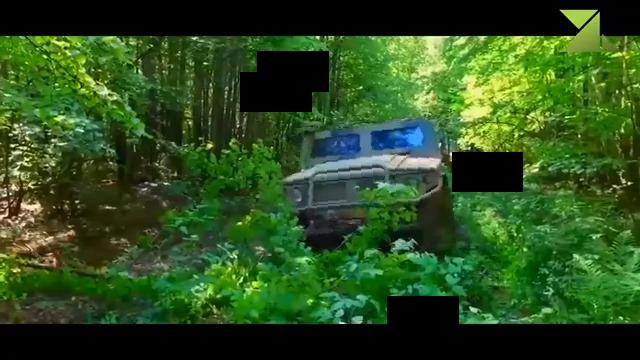MIL_HMMWV: (281, 119, 454, 254)
